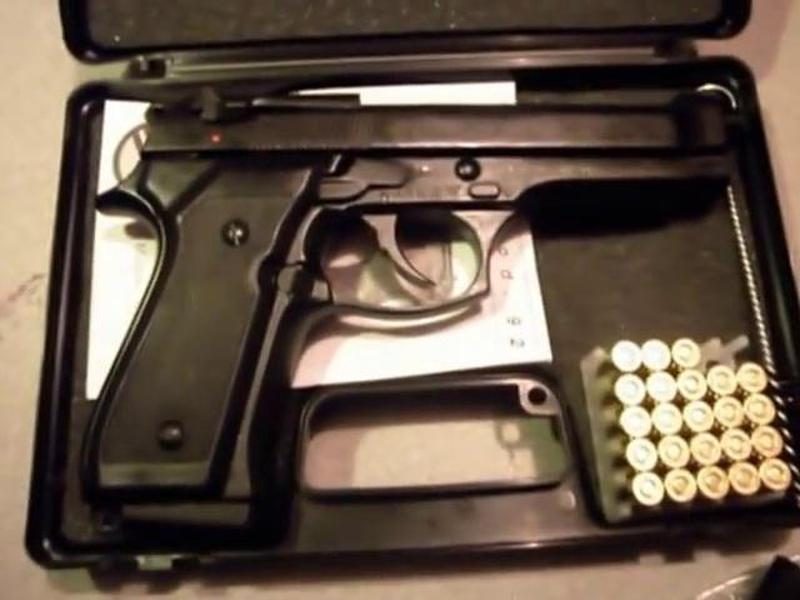Pistola: (67, 112, 747, 574)
